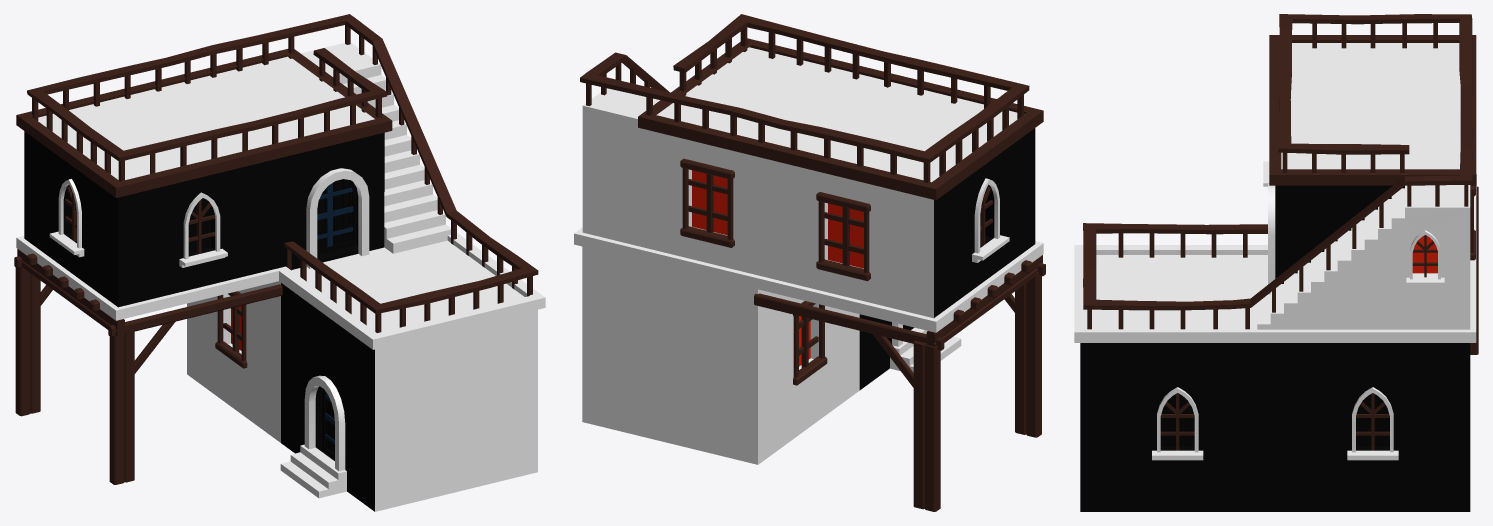
File: civilian_house_33_a.FBX
The picture shows the model from 3 angles, left to right: view 1: azimuth 30°, elevation 25°; view 2: azimuth 150°, elevation 25°; view 3: azimuth 270°, elevation 25°; orthographic projection. The views are drawn at different scales.
Visible parts, largest first — view 1: civilian_house_33_a; view 2: civilian_house_33_a; view 3: civilian_house_33_a.
Part boxes in pixels (x1,y1,x2,y2): civilian_house_33_a: [14, 14, 545, 511]; civilian_house_33_a: [574, 14, 1045, 511]; civilian_house_33_a: [1074, 14, 1478, 511].
Size of the model in its own units: 1066 by 949 by 1036.
